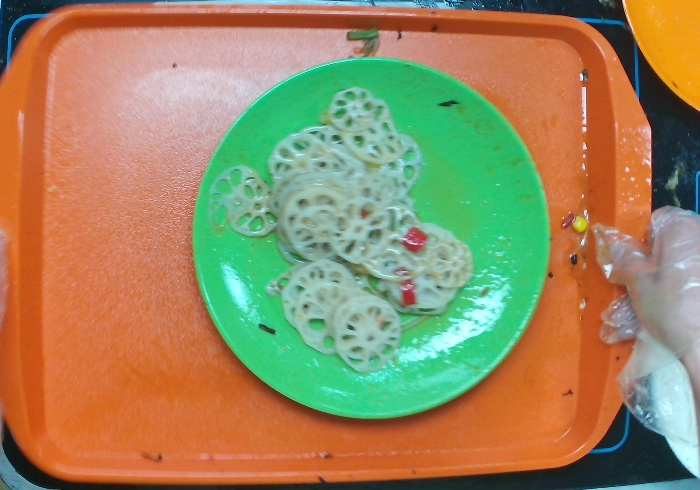HZYJPL-Lv_Se_Yuan_Pan: (190, 54, 553, 424)
